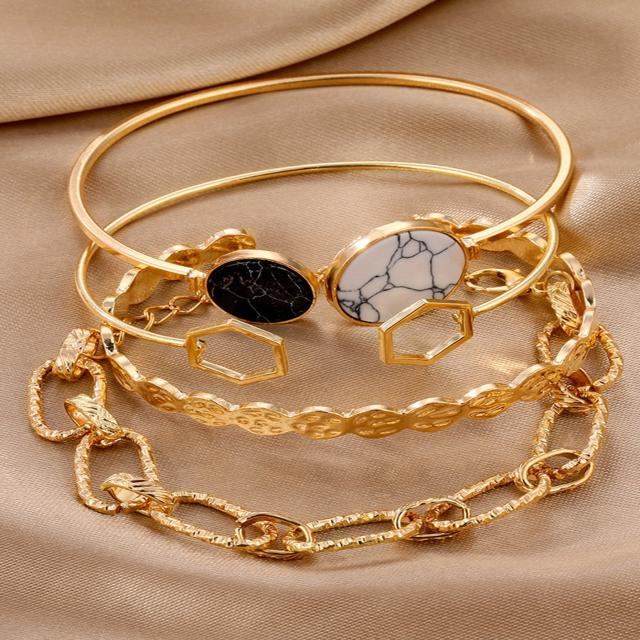bracelet: (8, 44, 640, 590)
